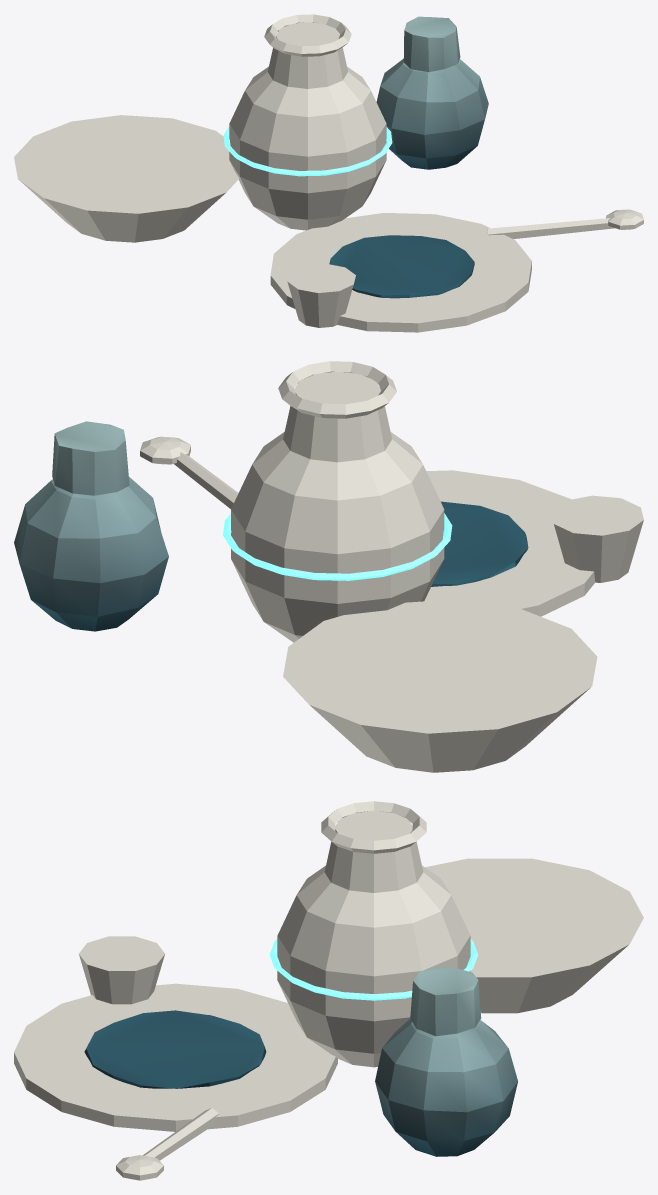
File: prop_urn_set.glb
3 views of the same model, one above another, from view 1: azimuth 30°, elevation 25°; view 2: azimuth 150°, elevation 25°; view 3: azimuth 270°, elevation 25° (orthographic). The views are drawn at different scales.
Parts seen in each view (by area): view 1: prop_urn_set_bone, prop_urn_set_stone, prop_urn_set_glow; view 2: prop_urn_set_bone, prop_urn_set_stone, prop_urn_set_glow; view 3: prop_urn_set_bone, prop_urn_set_stone, prop_urn_set_glow.
Part boxes in pixels (x1,y1,x2,y2): prop_urn_set_bone: (14,14,643,332); prop_urn_set_stone: (329,16,488,298); prop_urn_set_glow: (223,126,392,176); prop_urn_set_bone: (140,361,643,772); prop_urn_set_stone: (14,421,528,631); prop_urn_set_glow: (223,513,452,580); prop_urn_set_bone: (14,801,643,1180); prop_urn_set_stone: (84,967,517,1156); prop_urn_set_glow: (269,939,478,1000).
Bounding box in the file's own units: 3.66 × 1.47 × 3.5.
